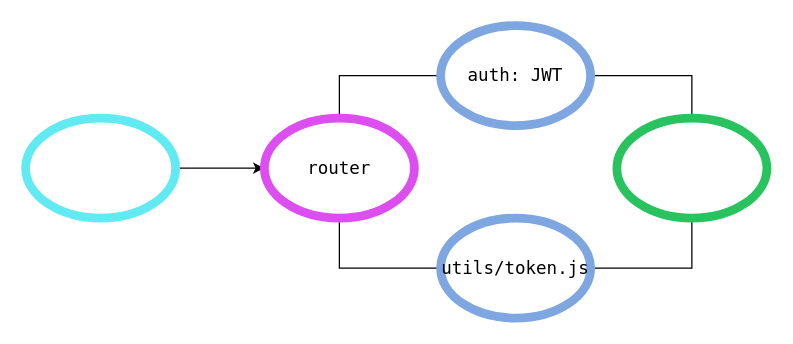
Some shapes in this 793 by 344 pixel diagram are drawn without their labels. Each missing label, with the centre of its shape:
"DB" belongs at point (691, 167).
"server.js" belongs at point (100, 167).
